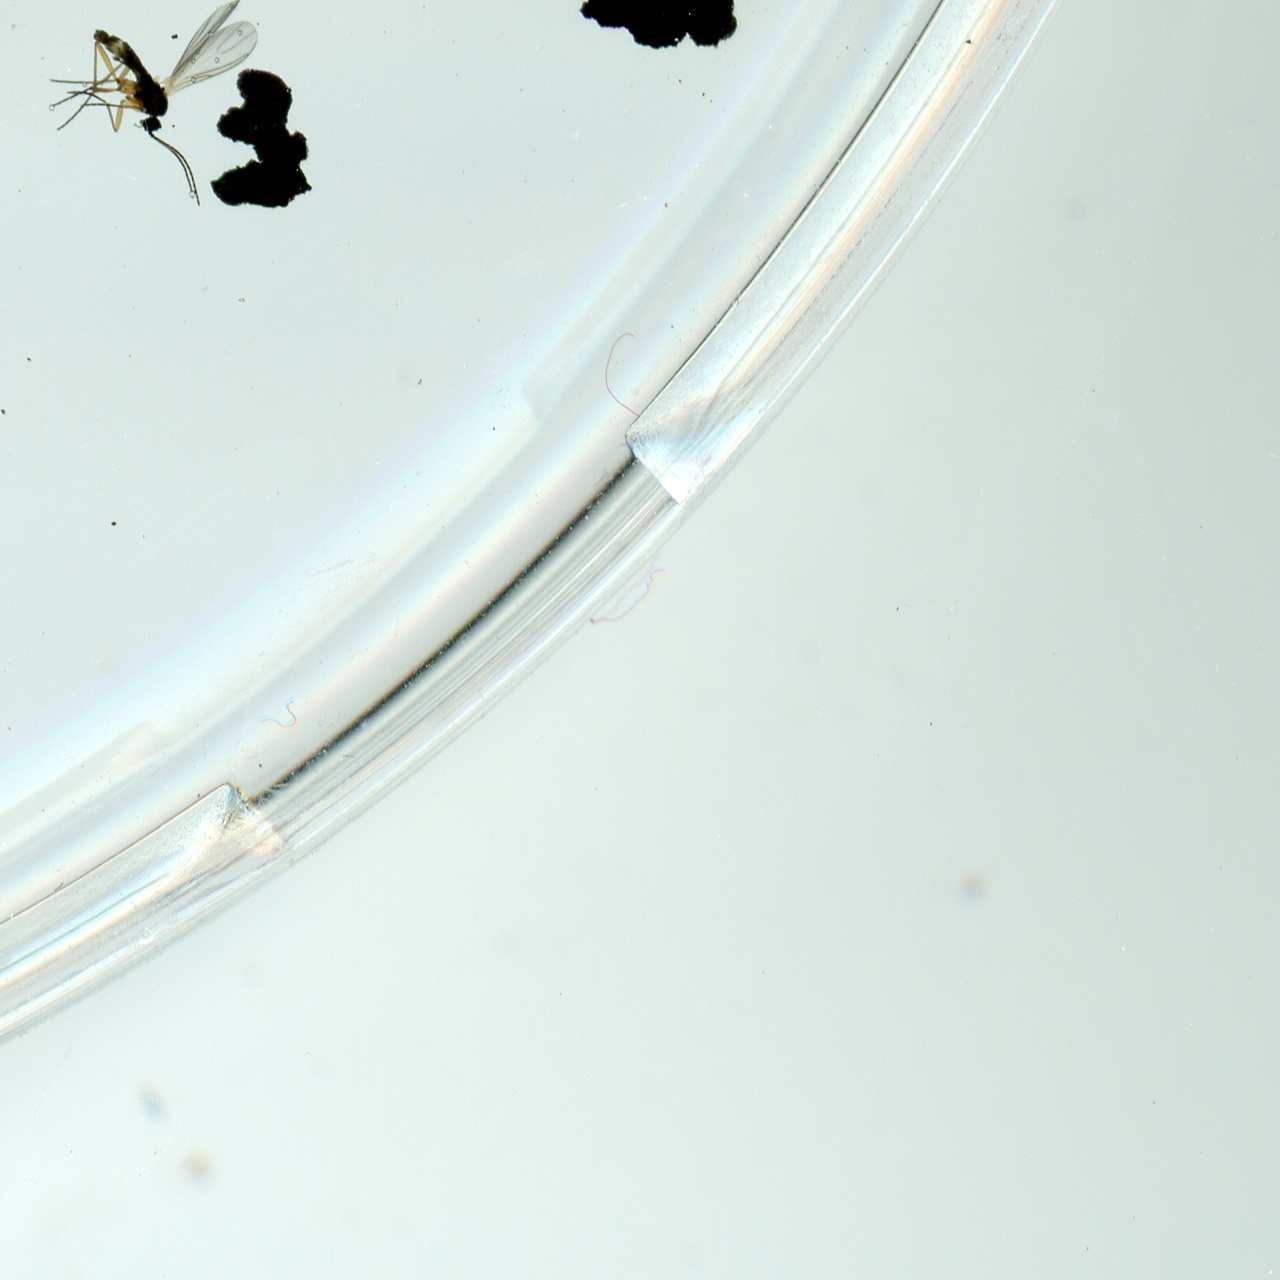arthropod: (37, 0, 266, 209)
